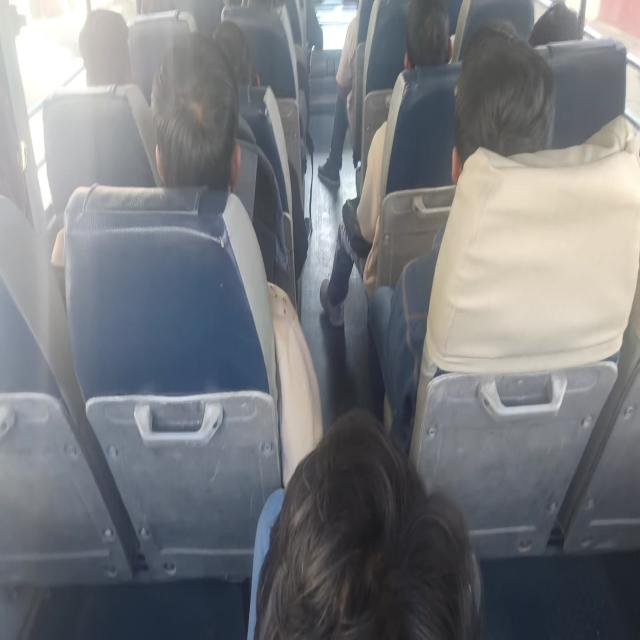person: (52, 26, 323, 484), (367, 19, 556, 454), (247, 407, 483, 638), (319, 0, 452, 326), (149, 30, 298, 313), (317, 0, 410, 188), (318, 6, 360, 186), (78, 8, 132, 86), (528, 0, 582, 46)
